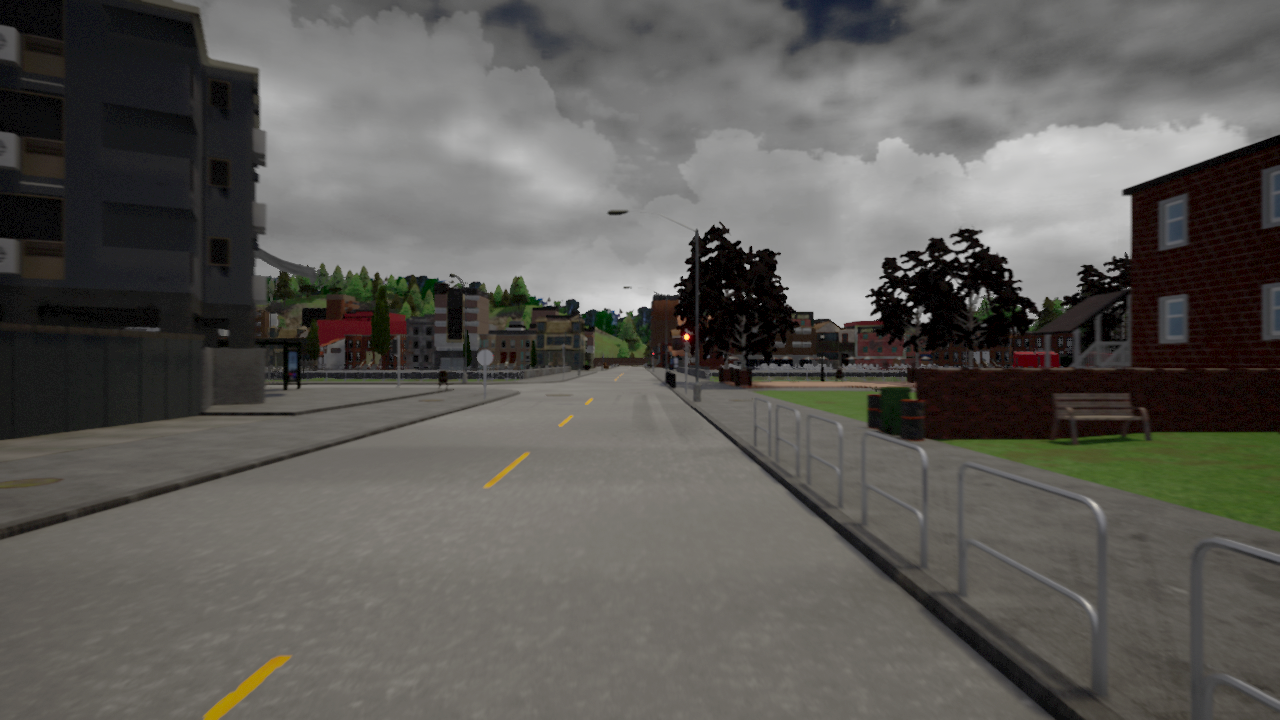red: (682, 332, 691, 354)
